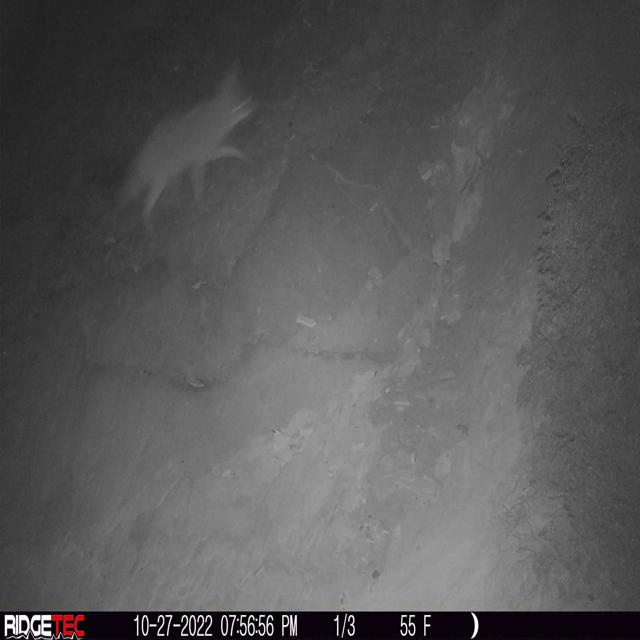coyote: (109, 57, 261, 238)
